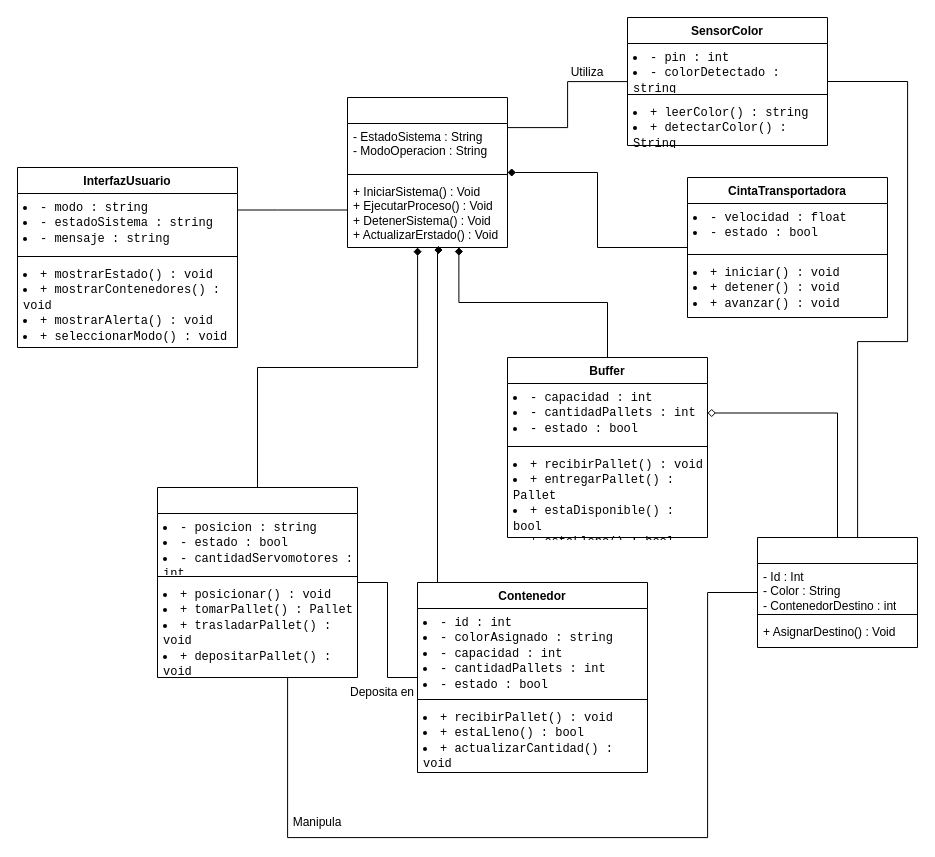
This 935x857 diagram has some shape labels left out. Each missing label, with the box of its shape:
BrazoRobotico: (156, 486, 358, 678)
Pallet: (756, 536, 918, 648)
SistemaControl: (346, 96, 508, 248)
